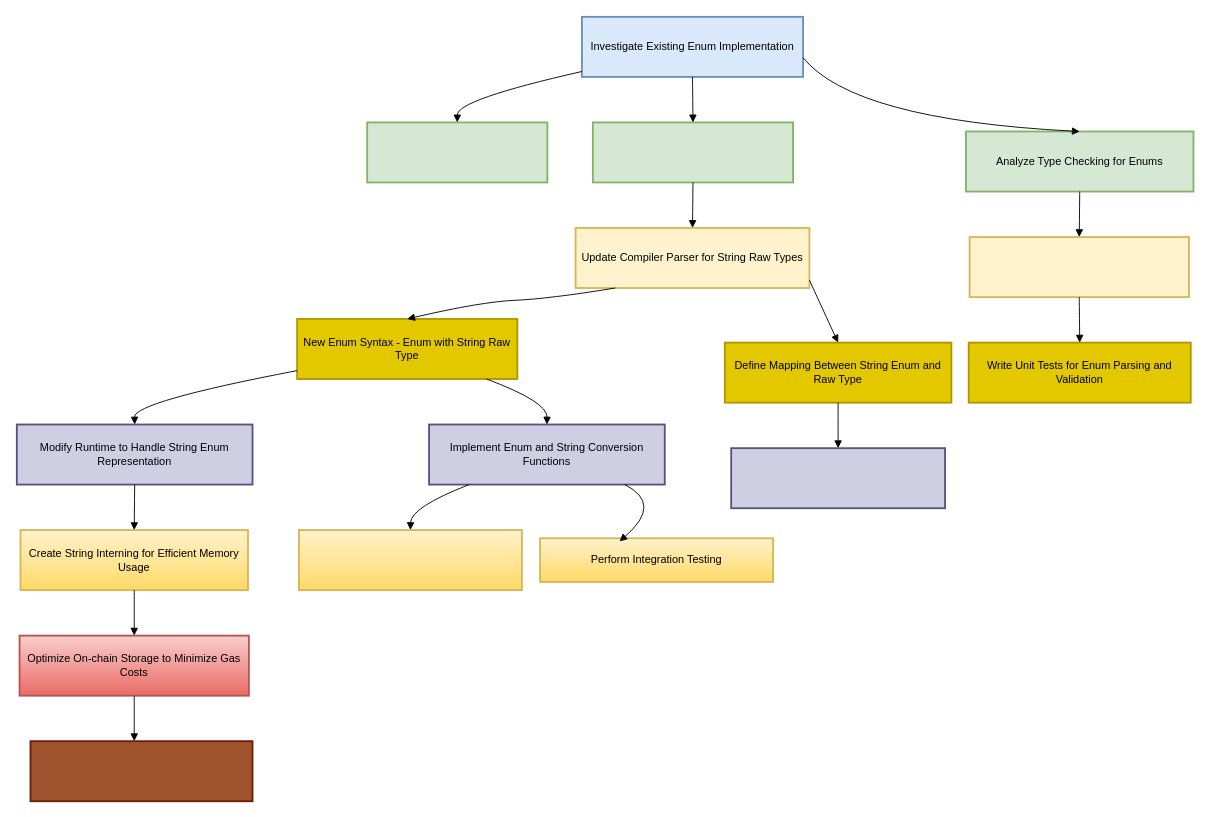
This 1209x817 diagram has some shape labels left out. The box of each missing label's shape, as (x1, y1, x2, y2) in pixels:
Examine Enum Parsing Mechanism: (592, 121, 794, 183)
Frontend Integration with String Enum: (298, 529, 522, 591)
Identify Enum Data Structure: (366, 121, 548, 183)
Modify Type Checking for String Enum Validation: (968, 236, 1189, 298)
Run Gas Cost Analysis and Optimize Further: (29, 740, 253, 802)
Update ABI to Represent Enum as String: (730, 447, 945, 509)
